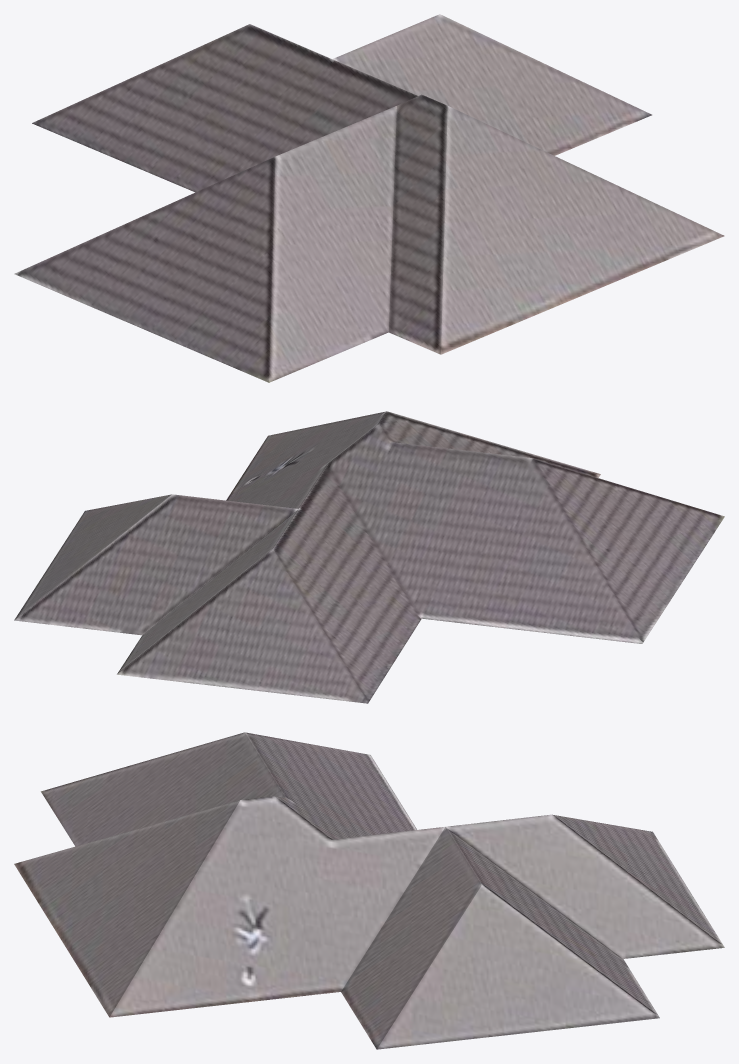
File: BK39_500_014034_0002_roof.obj
The picture shows the model from 3 angles, top to bottom: view 1: azimuth 30°, elevation 25°; view 2: azimuth 150°, elevation 25°; view 3: azimuth 270°, elevation 25°; orthographic projection. The views are drawn at different scales.
Parts seen in each view (by area): view 1: BK39_500_014034_0002_roof; view 2: BK39_500_014034_0002_roof; view 3: BK39_500_014034_0002_roof.
Part boxes in pixels (x1,y1,x2,y2): BK39_500_014034_0002_roof: [14, 14, 724, 382]; BK39_500_014034_0002_roof: [14, 411, 724, 703]; BK39_500_014034_0002_roof: [14, 732, 724, 1049].
Bounding box in the file's own units: 362 × 70 × 369.
Materials: 1 (1 with a texture image).
